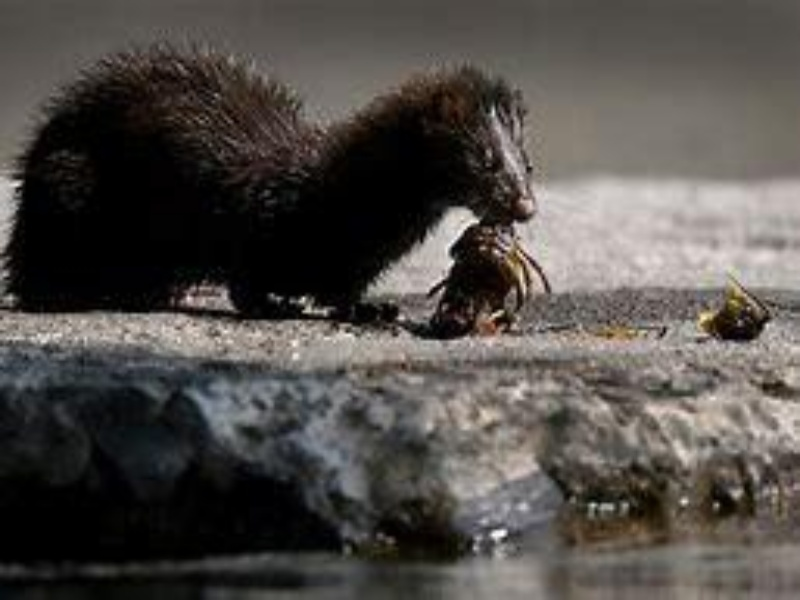minkish: (1, 33, 539, 314)
